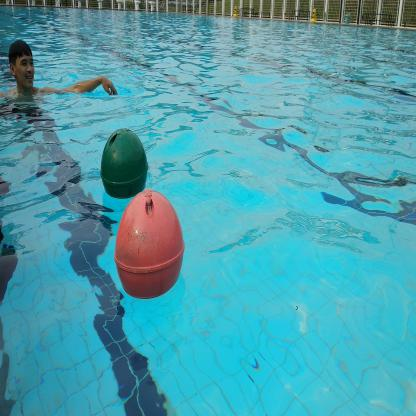green_buoy: (100, 122, 150, 202)
red_buoy: (112, 185, 190, 308)
